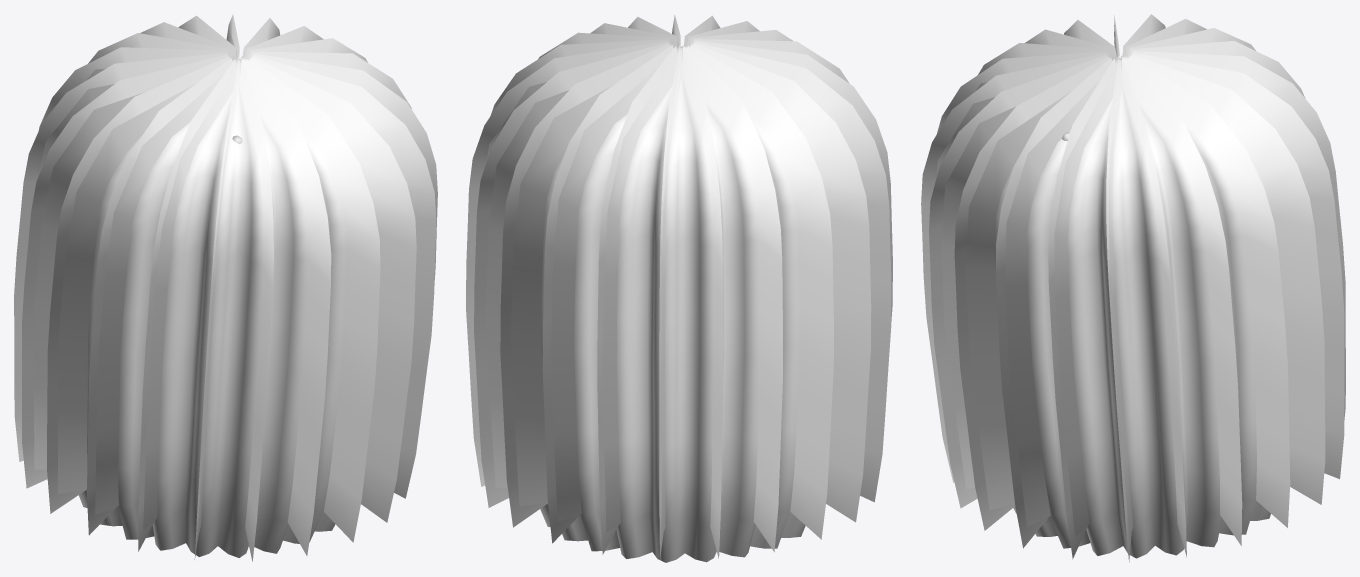
Rendered from TevyBarrel.glb.
The picture shows the model from 3 angles, left to right: view 1: azimuth 30°, elevation 25°; view 2: azimuth 150°, elevation 25°; view 3: azimuth 270°, elevation 25°; orthographic projection.
Parts seen in each view (by area): view 1: barrel_cactus; view 2: barrel_cactus; view 3: barrel_cactus.
Boxes of the visible parts, left/top/right/bottom form: barrel_cactus: left=14, top=14, right=437, bottom=561; barrel_cactus: left=466, top=14, right=892, bottom=562; barrel_cactus: left=921, top=14, right=1345, bottom=562.
Size of the model in its own units: 0.8144 by 0.9809 by 0.82.
Materials: 2 (1 with a texture image).
